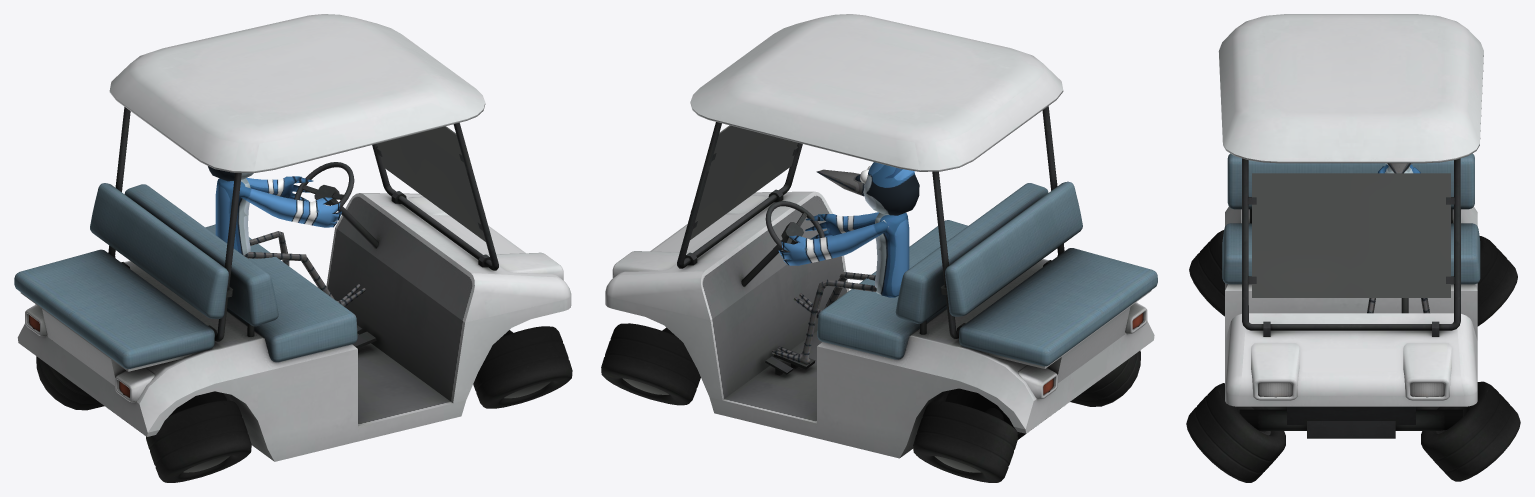
File: carrogolfcarrera.obj
3 views of the same model, side by side, from view 1: azimuth 30°, elevation 25°; view 2: azimuth 150°, elevation 25°; view 3: azimuth 270°, elevation 25° (orthographic). The views are drawn at different scales.
Visible parts, largest first — view 1: carrogolf.001_Material.004, carrogolf.001_None; view 2: carrogolf.001_Material.004, carrogolf.001_None; view 3: carrogolf.001_Material.004, carrogolf.001_None.
Boxes of the visible parts, <box> form: carrogolf.001_Material.004: <box>14,14,572,482</box>; carrogolf.001_None: <box>208,166,365,306</box>; carrogolf.001_Material.004: <box>601,14,1157,482</box>; carrogolf.001_None: <box>772,162,919,364</box>; carrogolf.001_Material.004: <box>1186,14,1520,482</box>; carrogolf.001_None: <box>1367,163,1429,313</box>.
Bounding box in the file's own units: 123 × 89.63 × 82.14.
